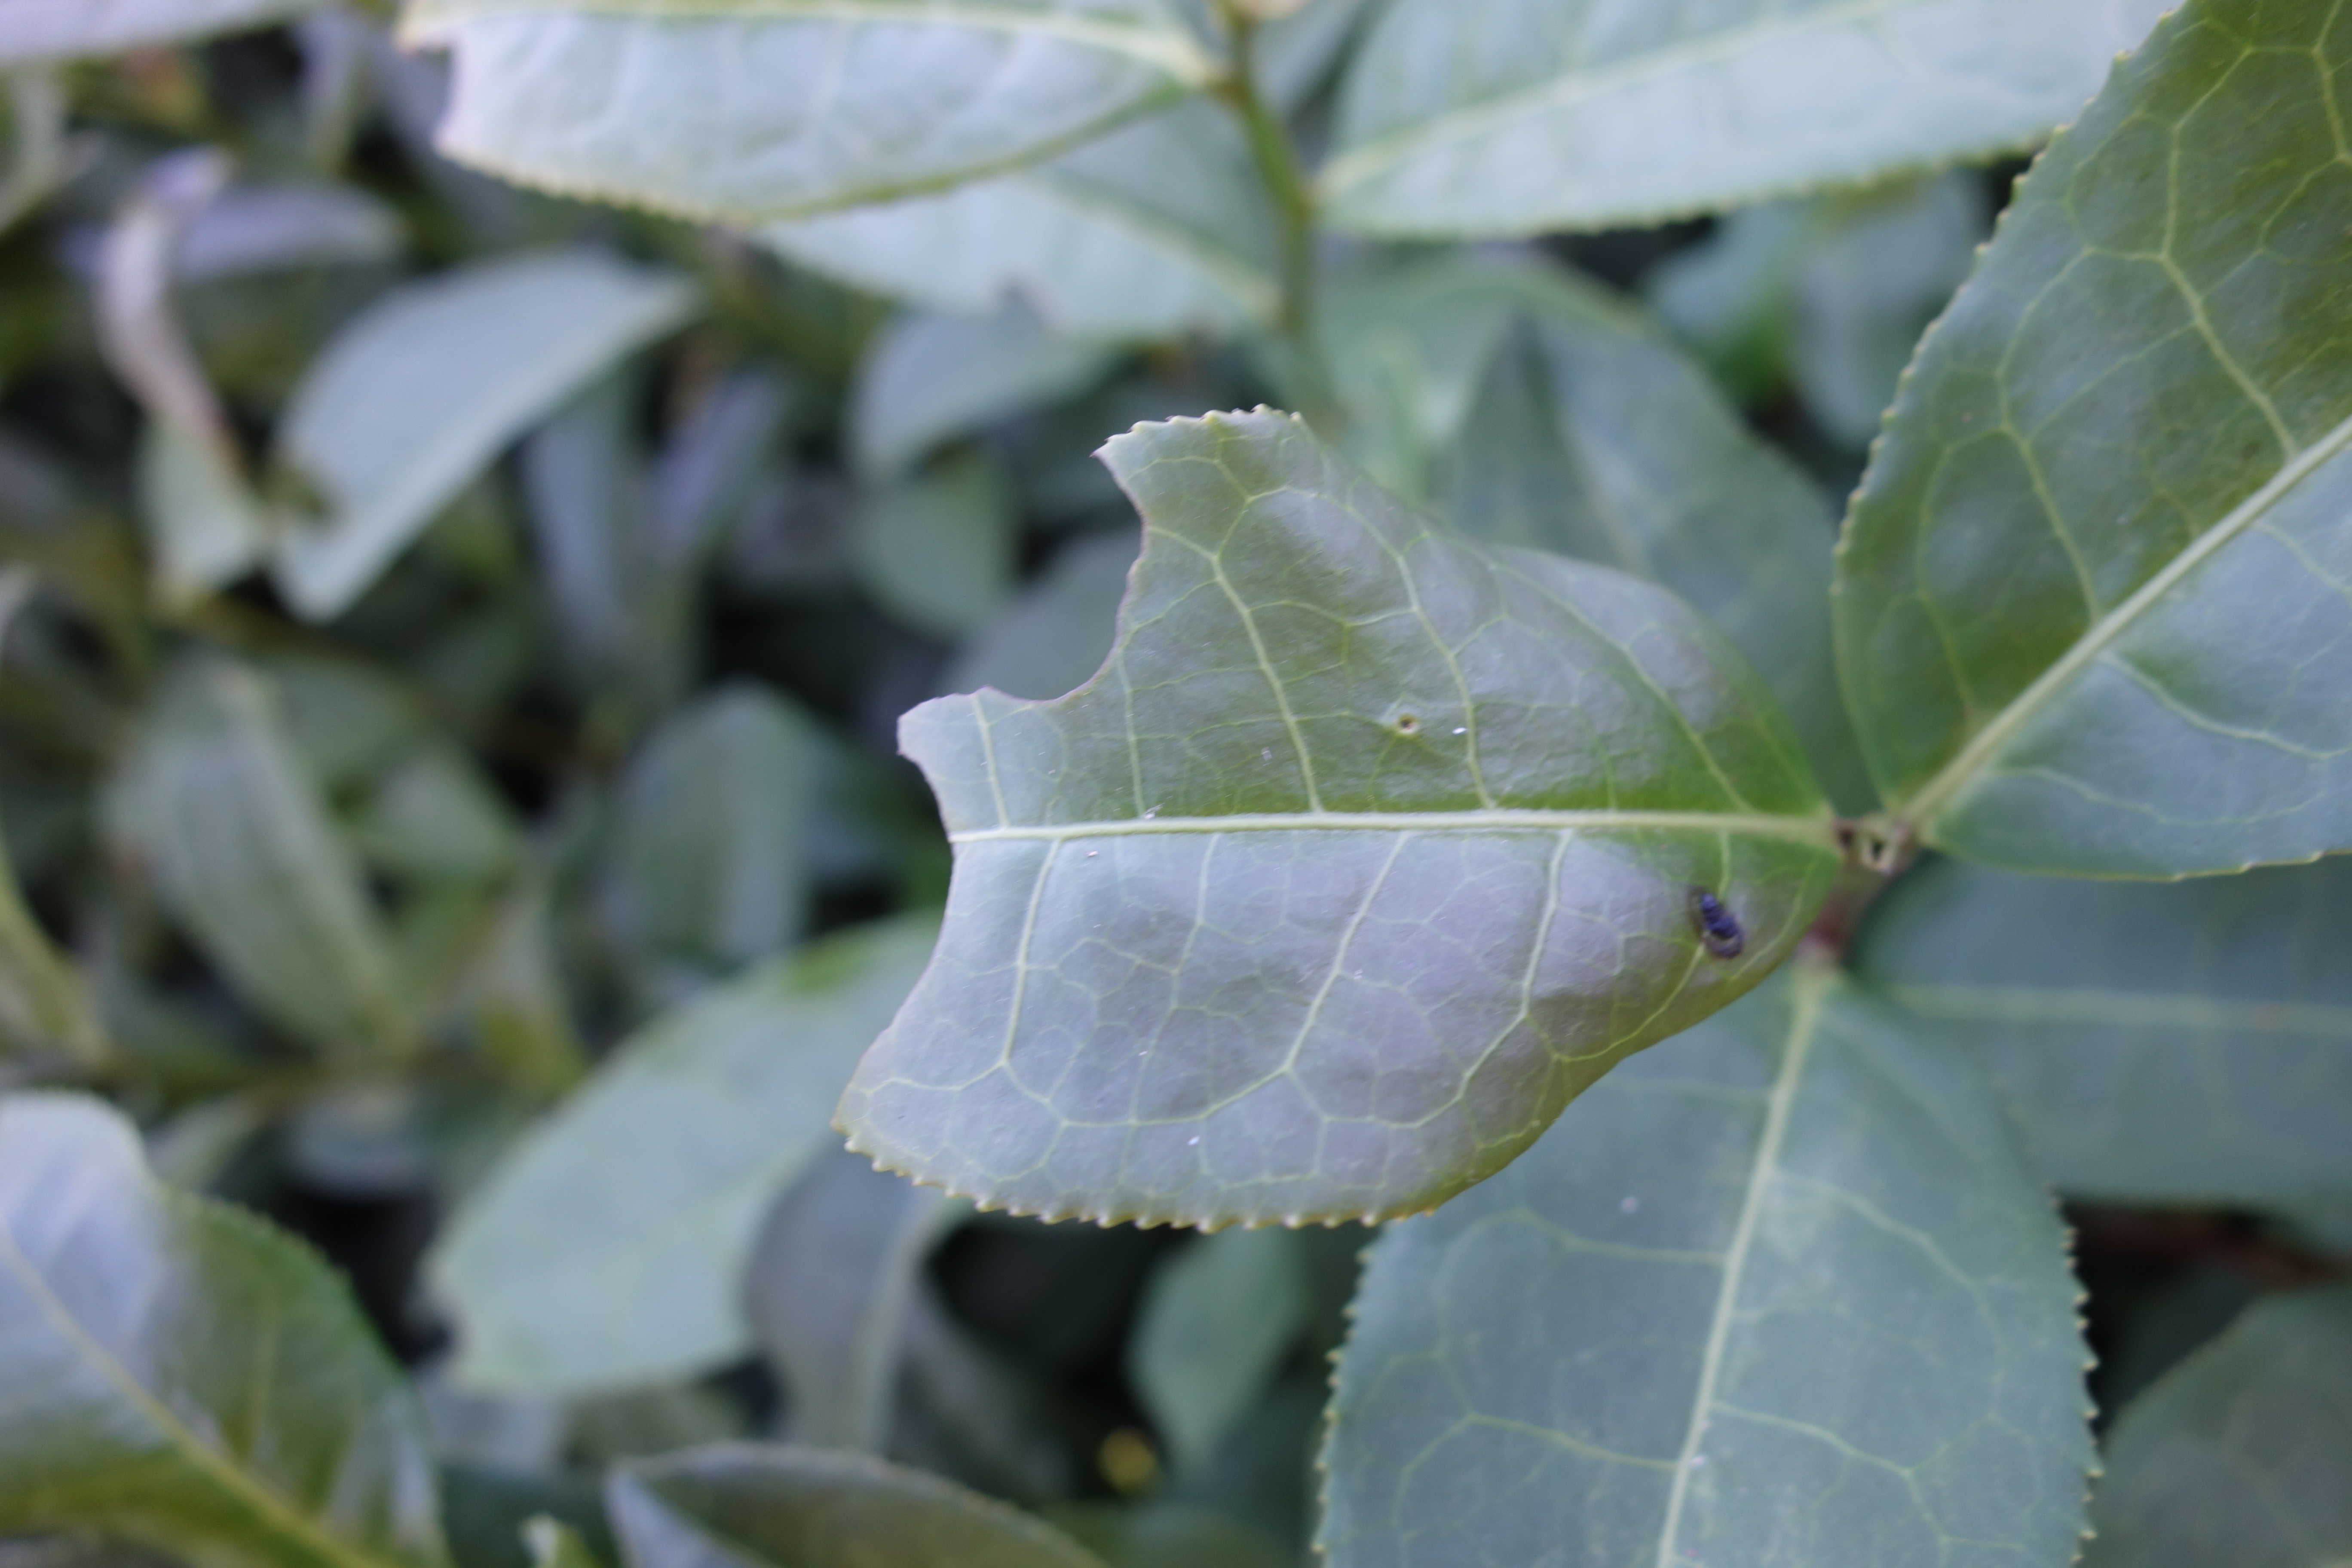chihuo_high: (831, 399, 1857, 1234)
healthy: (1832, 3, 2352, 884)
